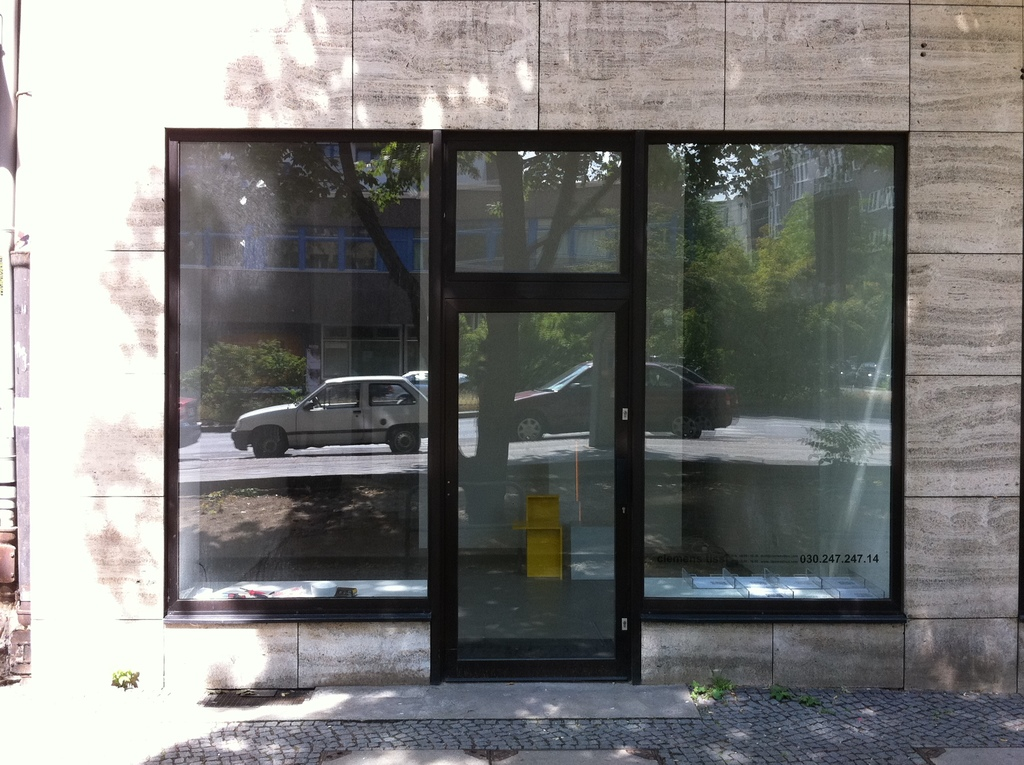Tree: (235, 139, 813, 523)
